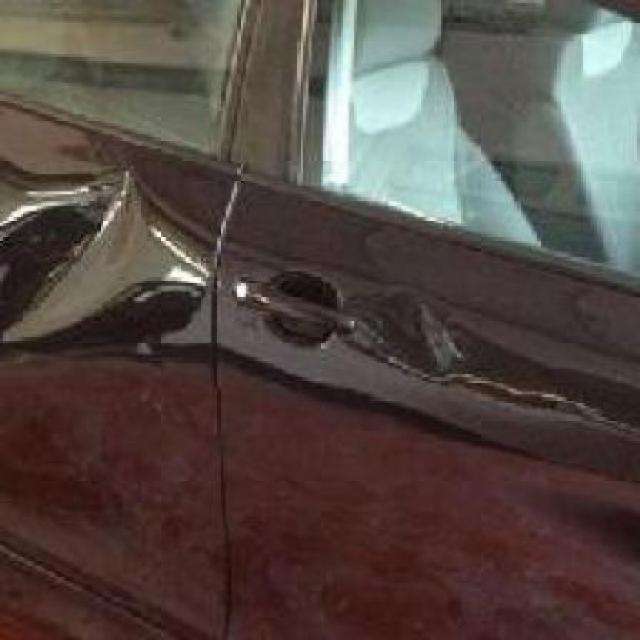dent-or-scratch: (0, 160, 175, 354)
